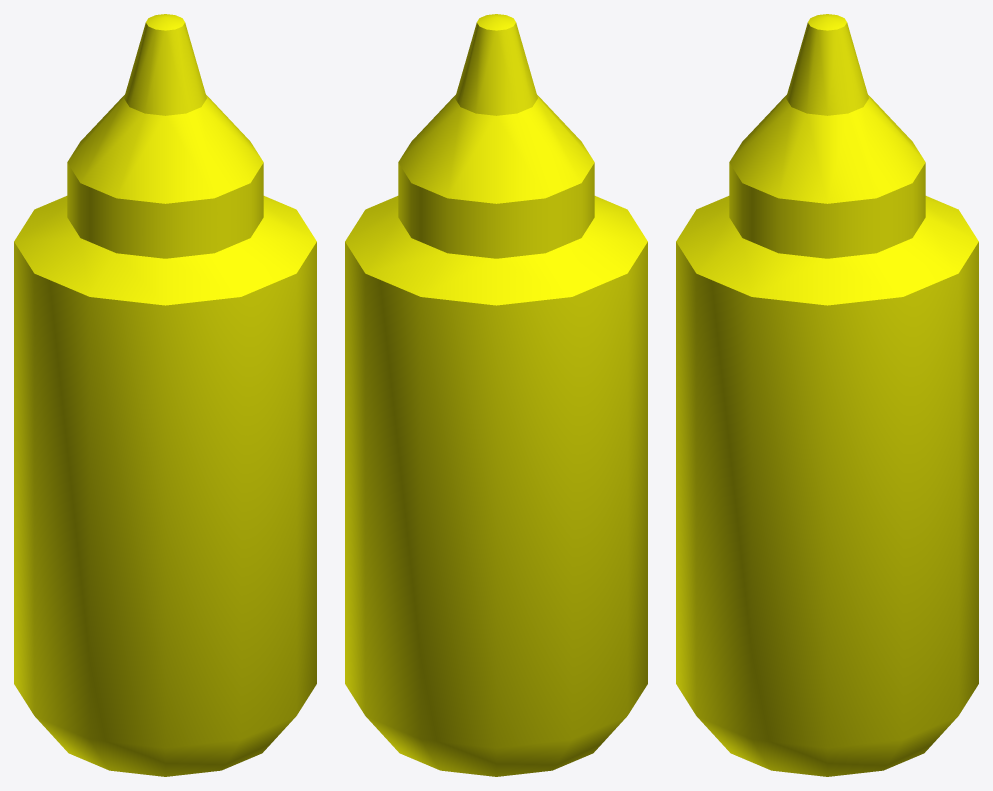
The model's file is kaykit-mustard.glb.
3 renders of one model, left to right at view 1: azimuth 30°, elevation 25°; view 2: azimuth 150°, elevation 25°; view 3: azimuth 270°, elevation 25°, orthographic.
Parts seen in each view (by area): view 1: mustard; view 2: mustard; view 3: mustard.
Boxes of the visible parts, box(x1,y1,x2,y2) form: mustard: box(14, 14, 316, 776); mustard: box(345, 14, 647, 776); mustard: box(676, 14, 978, 776).
Size of the model in its own units: 0.3 by 0.7785 by 0.3.
